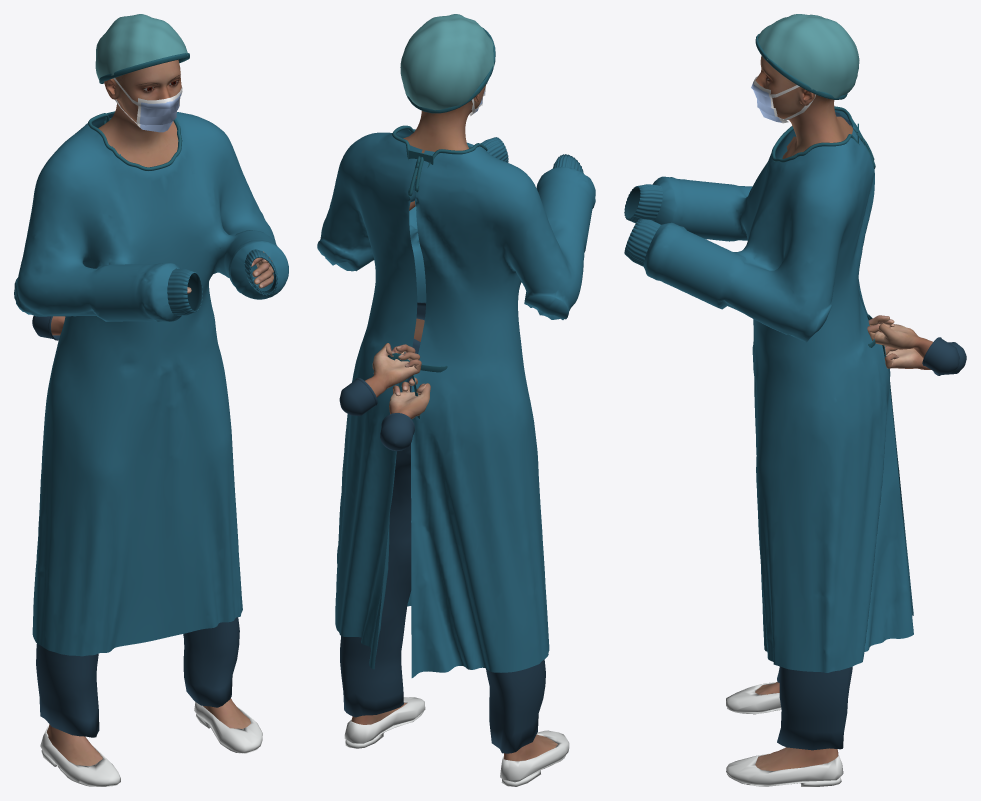
Rendered from paso-5.glb.
The picture shows the model from 3 angles, left to right: view 1: azimuth 30°, elevation 25°; view 2: azimuth 150°, elevation 25°; view 3: azimuth 270°, elevation 25°; orthographic projection.
Visible parts, largest first — view 1: v2-gown, Human.toigo_wool_pants-static, Human-static, surgical-cap, Human.toigo_flats-static, v2-cuff-R, Human.joepal_medical_mouth_protection-static, v2-neck-binding, cap-elastic, v2-cuff-L; view 2: v2-gown, Human.toigo_wool_pants-static, surgical-cap, Human-static, Human.toigo_flats-static, v2-circulator-hand-L, v2-circulator-hand-R, v2-circulator-sleeve-R, v2-circulator-sleeve-L, v2-neck-binding, cap-elastic; view 3: v2-gown, surgical-cap, Human-static, Human.toigo_wool_pants-static, Human.toigo_flats-static, v2-circulator-hand-L, v2-cuff-R, v2-cuff-L, v2-circulator-sleeve-L, v2-neck-binding, Human.joepal_medical_mouth_protection-static, v2-circulator-hand-R.
Part boxes in pixels (x1=…): v2-gown: x1=14, y1=112, x2=288, y2=656; Human.toigo_wool_pants-static: x1=36, y1=617, x2=239, y2=737; Human-static: x1=46, y1=59, x2=273, y2=765; surgical-cap: x1=95, y1=14, x2=187, y2=79; Human.toigo_flats-static: x1=40, y1=702, x2=262, y2=786; v2-cuff-R: x1=167, y1=269, x2=202, y2=315; Human.joepal_medical_mouth_protection-static: x1=113, y1=78, x2=182, y2=132; v2-neck-binding: x1=88, y1=113, x2=182, y2=170; cap-elastic: x1=99, y1=53, x2=189, y2=83; v2-cuff-L: x1=244, y1=249, x2=277, y2=295; v2-gown: x1=317, y1=129, x2=595, y2=677; Human.toigo_wool_pants-static: x1=340, y1=302, x2=545, y2=753; surgical-cap: x1=400, y1=14, x2=493, y2=110; Human-static: x1=351, y1=84, x2=557, y2=761; Human.toigo_flats-static: x1=344, y1=697, x2=569, y2=786; v2-circulator-hand-L: x1=365, y1=343, x2=421, y2=397; v2-circulator-hand-R: x1=389, y1=377, x2=430, y2=419; v2-circulator-sleeve-R: x1=380, y1=414, x2=413, y2=450; v2-circulator-sleeve-L: x1=339, y1=379, x2=375, y2=415; v2-neck-binding: x1=392, y1=125, x2=487, y2=196; cap-elastic: x1=405, y1=27, x2=495, y2=113; v2-gown: x1=643, y1=110, x2=913, y2=672; surgical-cap: x1=758, y1=14, x2=859, y2=98; Human-static: x1=755, y1=55, x2=852, y2=770; Human.toigo_wool_pants-static: x1=777, y1=666, x2=852, y2=750; Human.toigo_flats-static: x1=726, y1=682, x2=843, y2=786; v2-circulator-hand-L: x1=867, y1=315, x2=932, y2=358; v2-cuff-R: x1=624, y1=184, x2=662, y2=223; v2-cuff-L: x1=624, y1=218, x2=661, y2=266; v2-circulator-sleeve-L: x1=924, y1=338, x2=959, y2=374; v2-neck-binding: x1=771, y1=106, x2=875, y2=168; Human.joepal_medical_mouth_protection-static: x1=751, y1=76, x2=815, y2=123; v2-circulator-hand-R: x1=884, y1=346, x2=930, y2=369.
Size of the model in its own units: 0.608 by 1.7 by 0.728.
21 materials, 9 textured.
